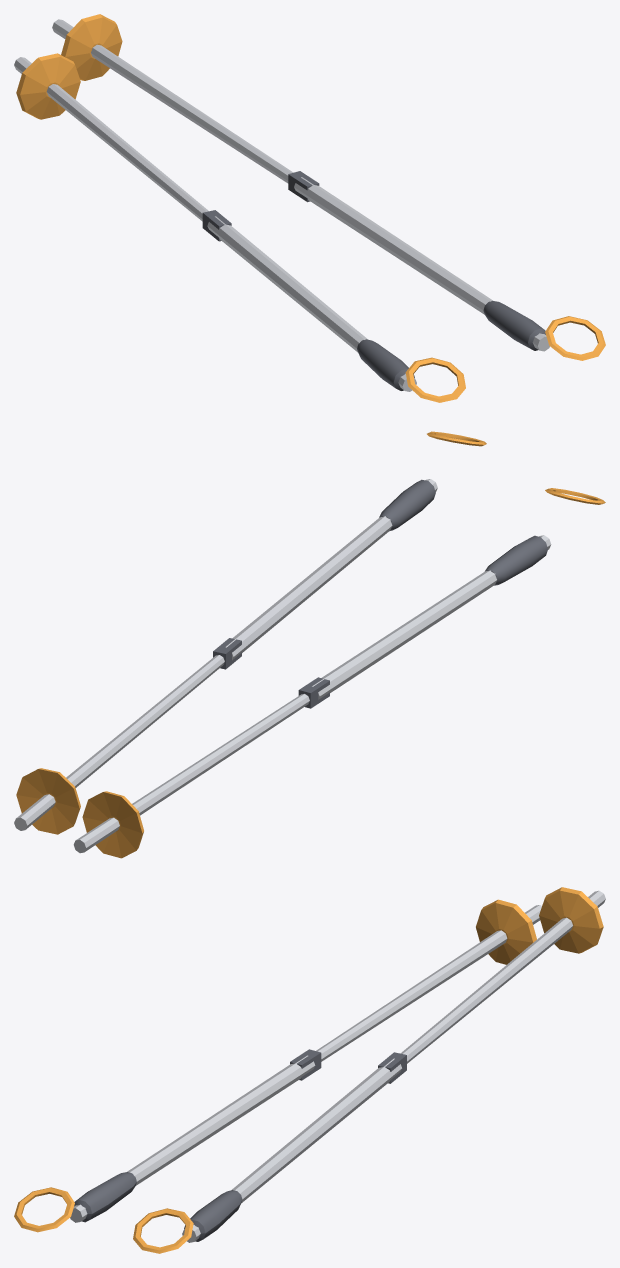
The model's file is backcountry-snowboarding-and-avalanche-safety-touring--0e168068__18927.glb.
The picture shows the model from 3 angles, top to bottom: view 1: azimuth 30°, elevation 25°; view 2: azimuth 150°, elevation 25°; view 3: azimuth 330°, elevation 25°; orthographic projection.
Visible parts, largest first — view 1: touring-poles-pair; view 2: touring-poles-pair; view 3: touring-poles-pair.
Boxes of the visible parts, x1=… form: touring-poles-pair: x1=14, y1=14, x2=605, y2=402; touring-poles-pair: x1=14, y1=431, x2=605, y2=858; touring-poles-pair: x1=14, y1=887, x2=605, y2=1253.
Bounding box in the file's own units: 0.2973 × 0.133 × 1.38.
